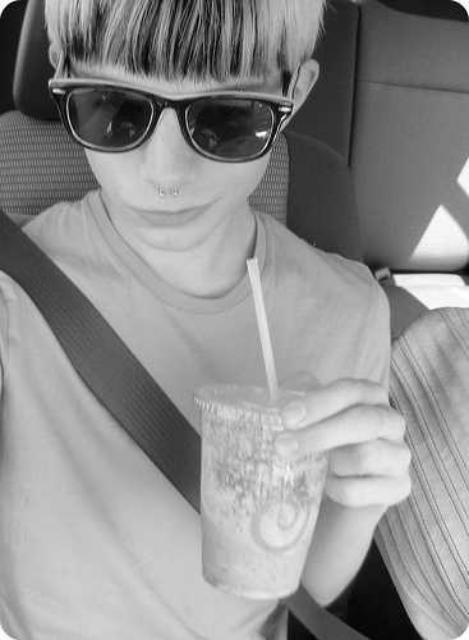Seatbelt: (1, 205, 374, 640)
